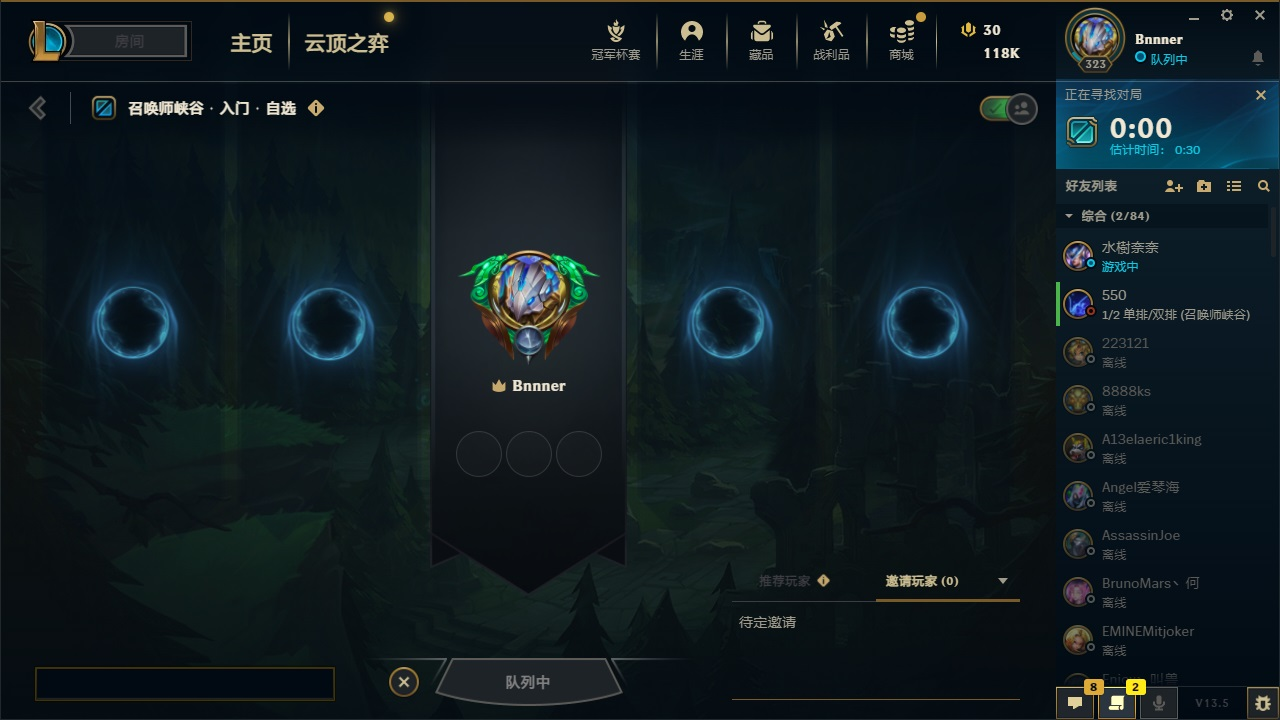RMRJFJ: (119, 91, 302, 127)
